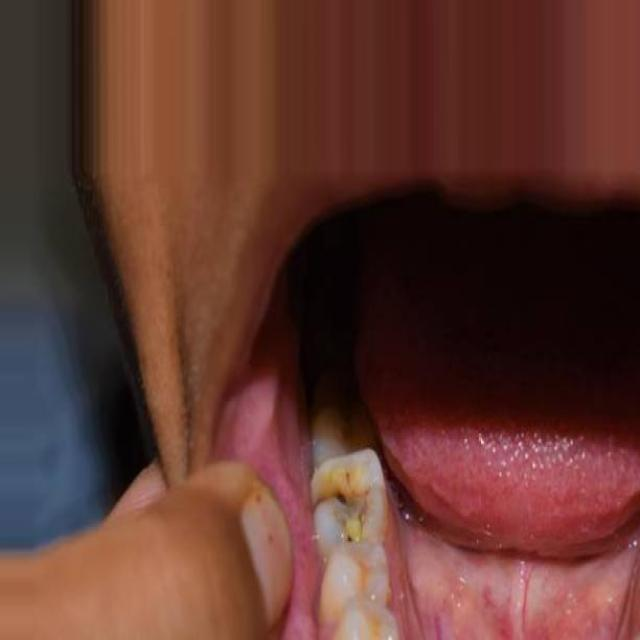caries: (308, 447, 391, 547)
